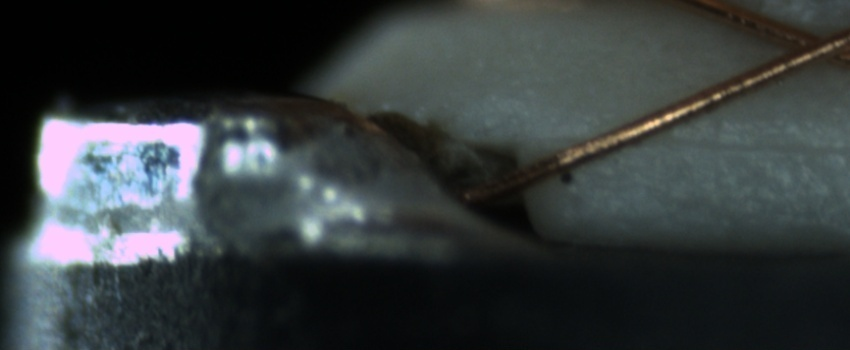CL: (759, 15, 849, 76)
DL: (610, 109, 845, 176)
